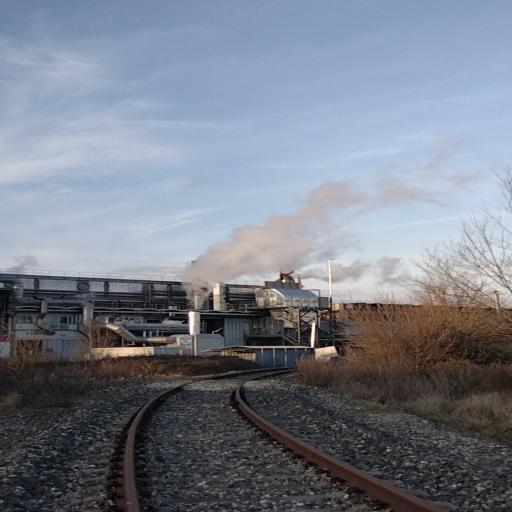leakage: (170, 179, 427, 308)
